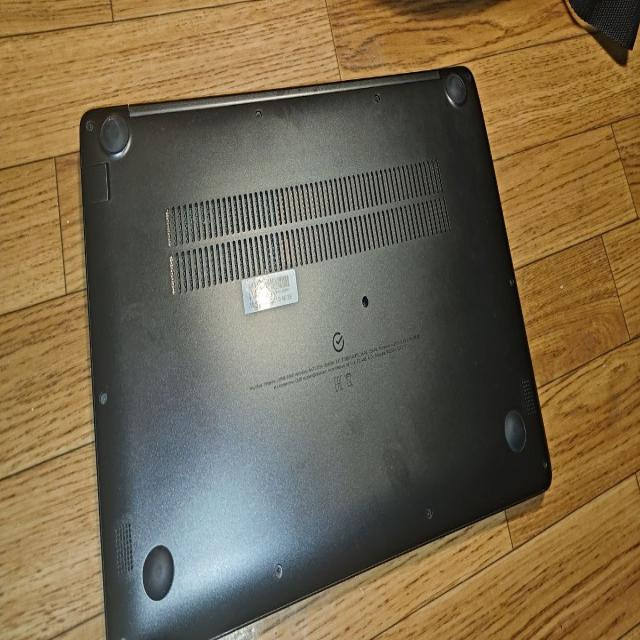other: (106, 258, 158, 367), (410, 387, 448, 454), (380, 435, 412, 505), (266, 89, 318, 128), (338, 404, 365, 439), (286, 453, 320, 476)
